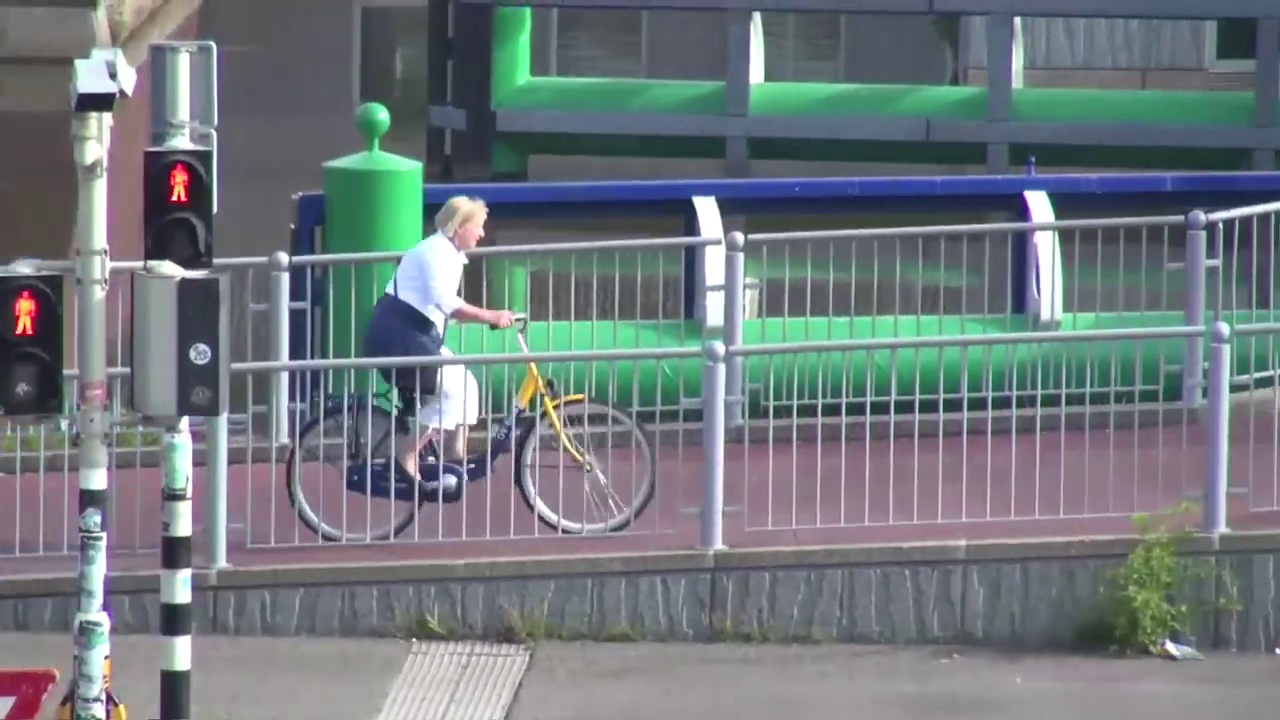cyclist_side: (273, 195, 664, 547)
